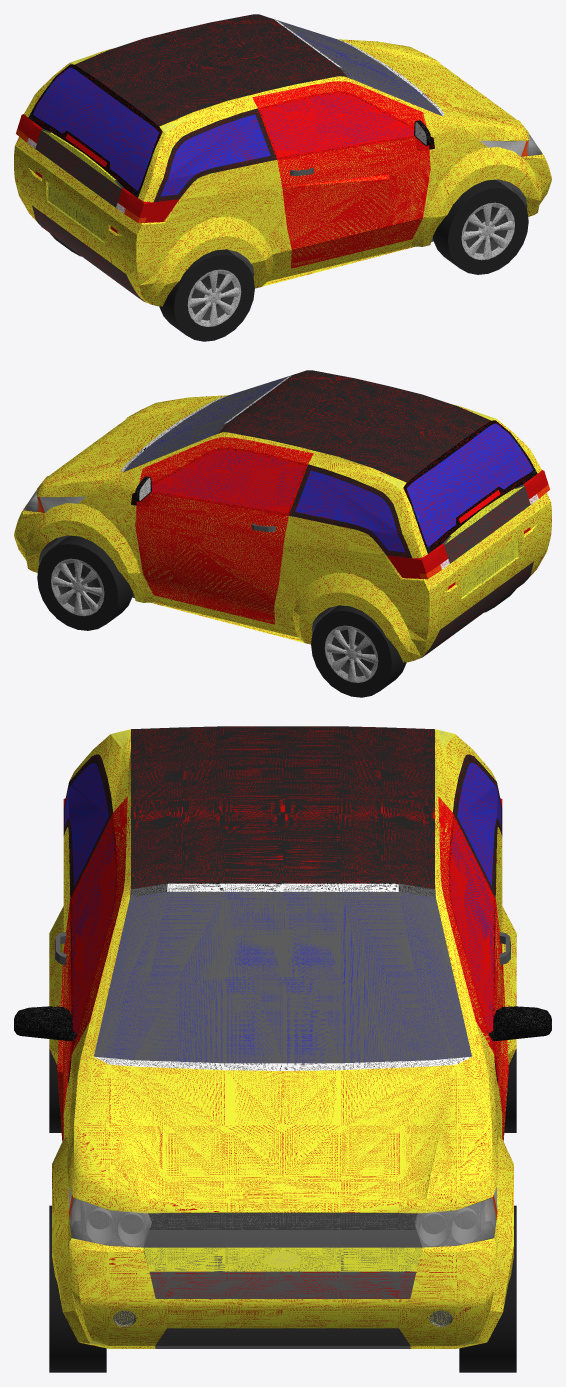
3 renders of one model, top to bottom at view 1: azimuth 30°, elevation 25°; view 2: azimuth 150°, elevation 25°; view 3: azimuth 270°, elevation 25°, orthographic. The views are drawn at different scales.
Visible parts, largest first — view 1: Group_13 (×17), group_0 (×4), Component_2 (×2), Group_11 (×2), group_14 (×4), group_13; view 2: Group_13 (×17), group_7 (×4), Component_2 (×2), Group_11 (×2), group_14 (×4), group_13; view 3: Group_13 (×18), group_13 (×3), Group_11 (×2), group_0 (×4), group_7 (×4), Component_2 (×4), group_3 (×2), group_10 (×2), group_2, group_9.
Boxes of the visible parts, x1=… form: Group_13 (×17): x1=14, y1=14, x2=551, y2=306; group_0 (×4): x1=252, y1=81, x2=430, y2=268; Component_2 (×2): x1=159, y1=179, x2=528, y2=341; Group_11 (×2): x1=342, y1=39, x2=529, y2=141; group_14 (×4): x1=189, y1=205, x2=513, y2=324; group_13: x1=270, y1=18, x2=442, y2=116; Group_13 (×17): x1=14, y1=370, x2=551, y2=662; group_7 (×4): x1=135, y1=437, x2=313, y2=624; Component_2 (×2): x1=37, y1=535, x2=406, y2=697; Group_11 (×2): x1=36, y1=395, x2=223, y2=497; group_14 (×4): x1=52, y1=561, x2=376, y2=680; group_13: x1=123, y1=374, x2=295, y2=472; Group_13 (×18): x1=49, y1=726, x2=516, y2=1348; group_13 (×3): x1=94, y1=883, x2=471, y2=1070; Group_11 (×2): x1=67, y1=1063, x2=498, y2=1213; group_0 (×4): x1=57, y1=796, x2=127, y2=1140; group_7 (×4): x1=438, y1=796, x2=508, y2=1140; Component_2 (×4): x1=49, y1=1049, x2=516, y2=1372; group_3 (×2): x1=69, y1=1198, x2=151, y2=1247; group_10 (×2): x1=414, y1=1198, x2=496, y2=1247; group_2: x1=14, y1=1006, x2=76, y2=1040; group_9: x1=489, y1=1006, x2=551, y2=1040.
Bounding box in the file's own units: 119 × 73.15 × 58.59.
